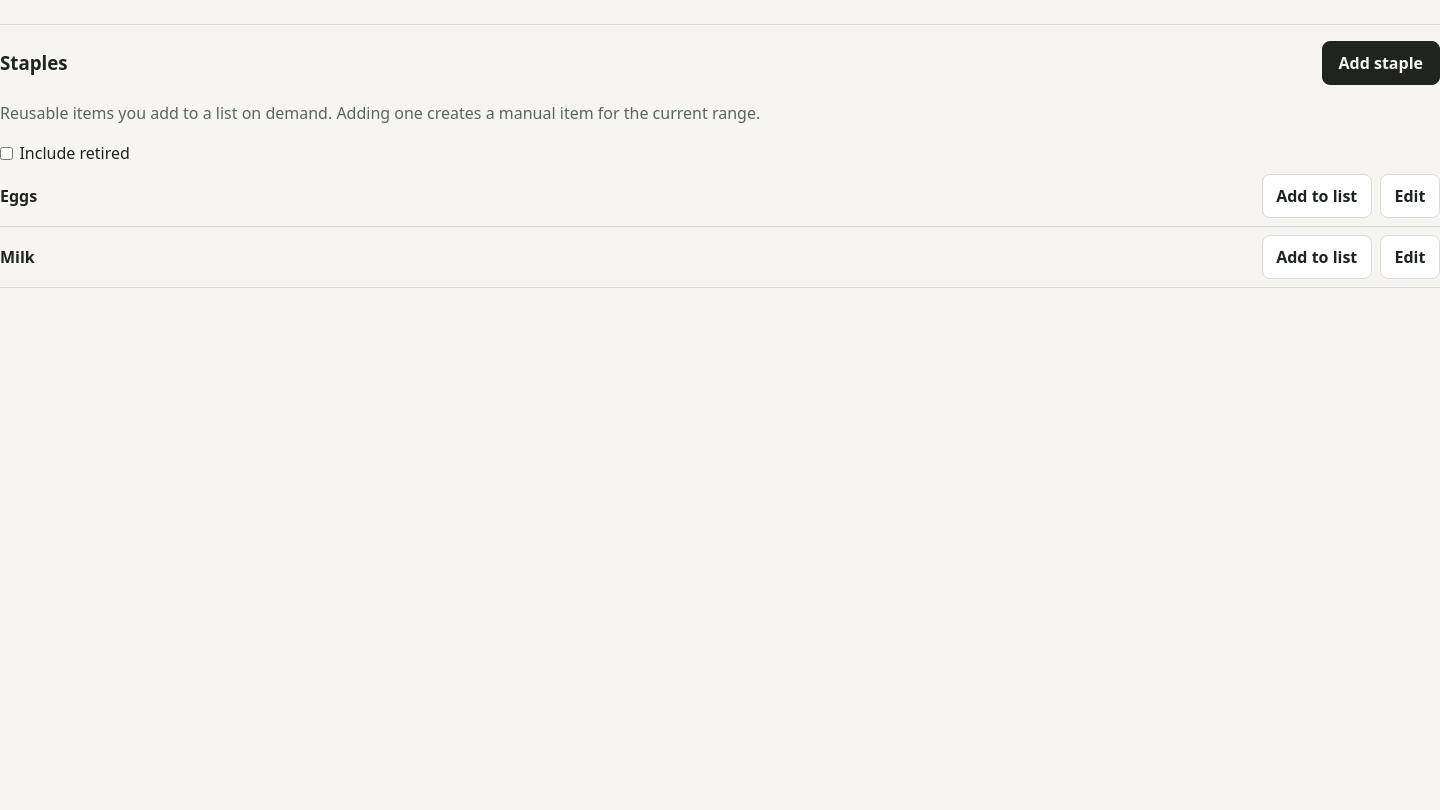
Test: staples panel › confirms before retiring a staple and announces it
The width and height of the screenshot is (1440, 810).
Click the button with aria-label "Edit Eggs" at {"x": 1410, "y": 196}, box [1380, 174, 1439, 218]
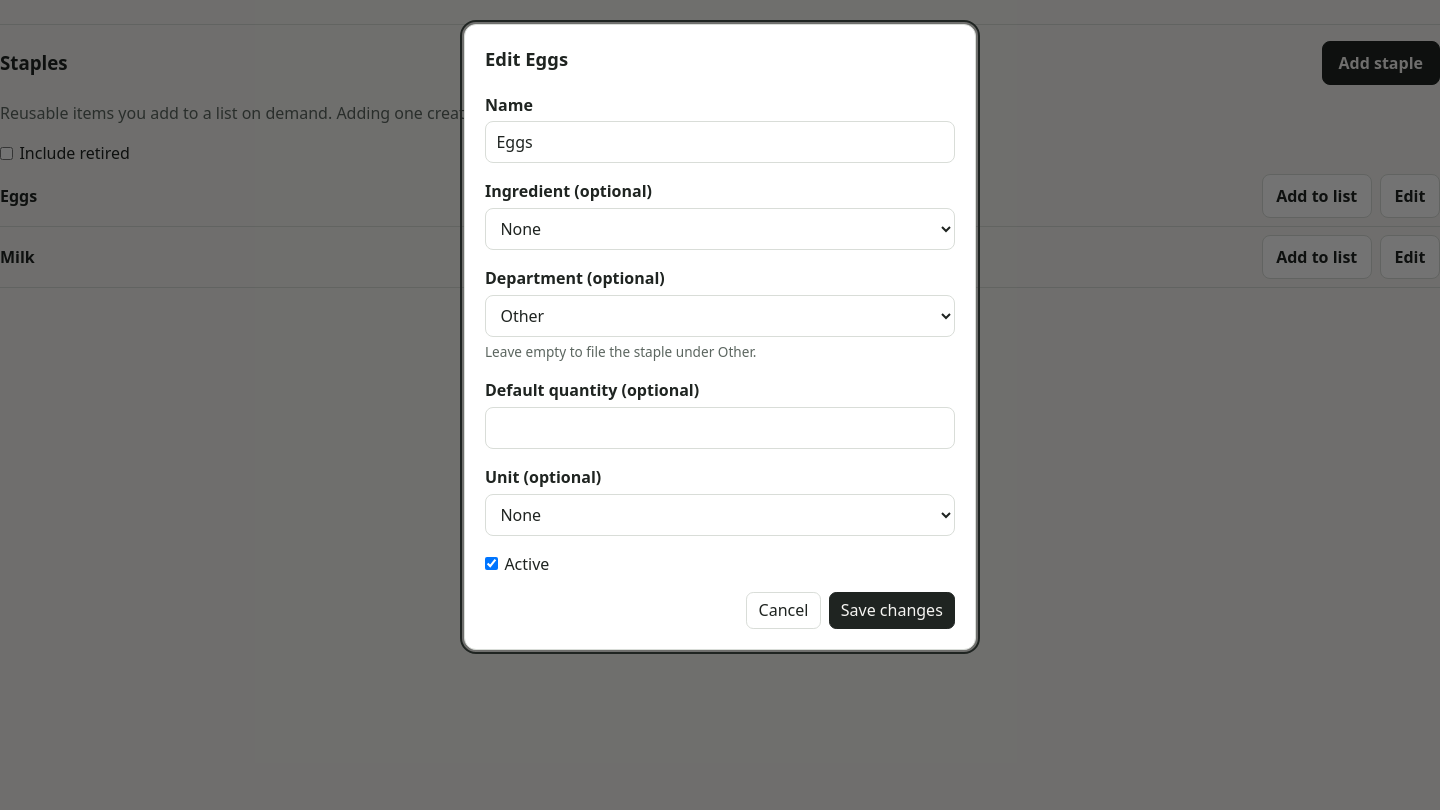
Click the checkbox labelled "Active" at {"x": 492, "y": 564}, box [485, 557, 498, 570]
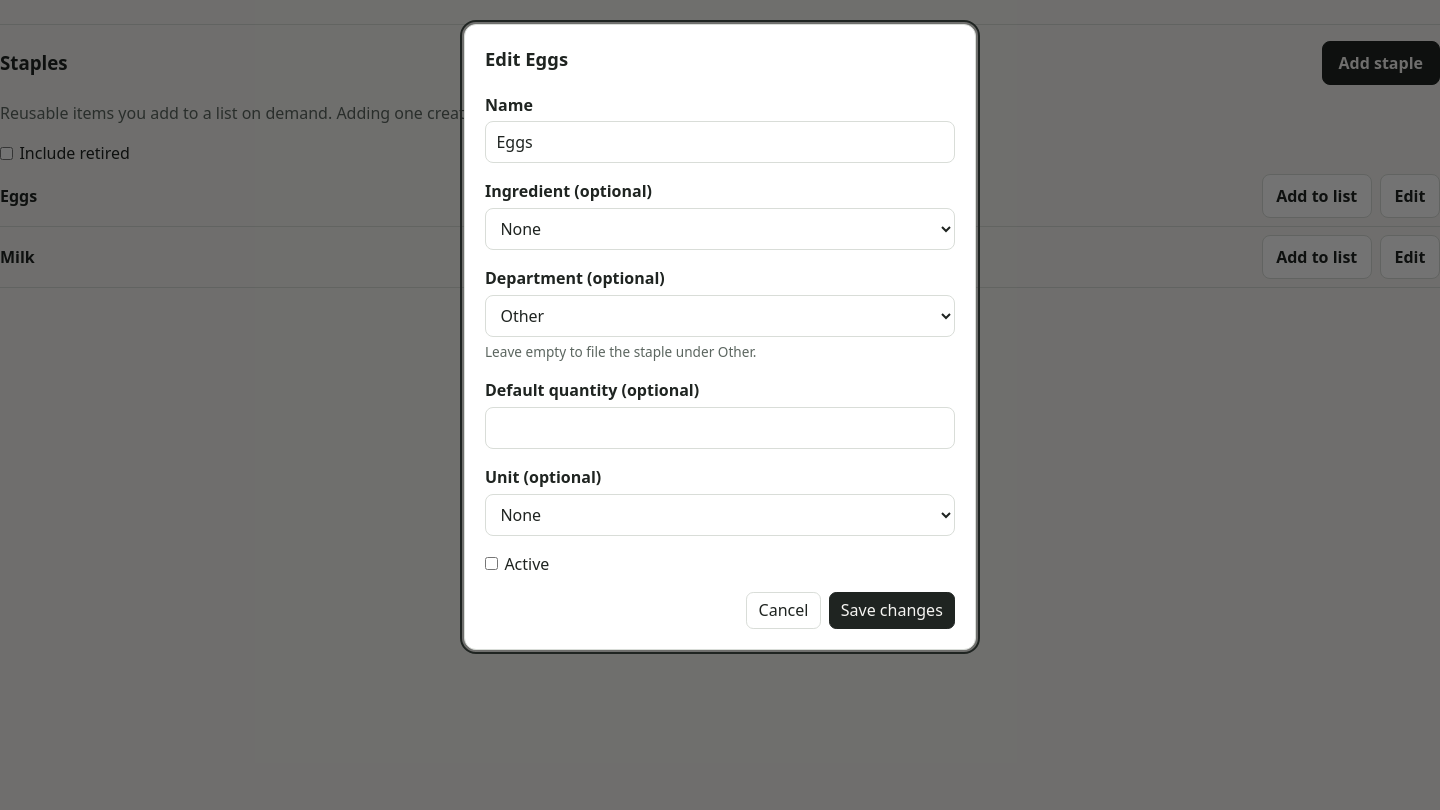
Click the button "Save changes" at {"x": 892, "y": 610}, box [829, 592, 955, 629]
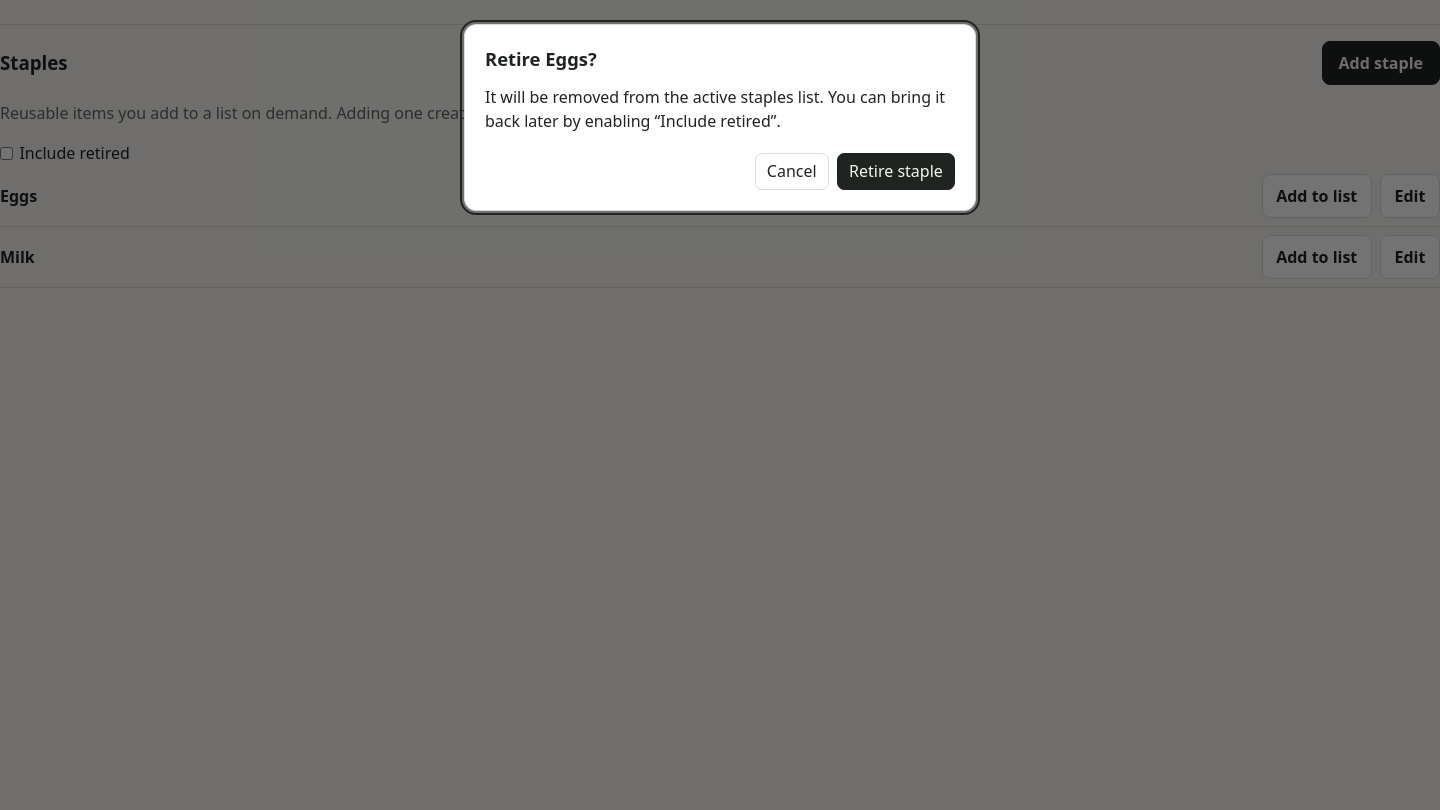
expect the heading "Edit Eggs" is gone: met
Click the button "Retire staple" at {"x": 896, "y": 171}, box [837, 153, 955, 190]
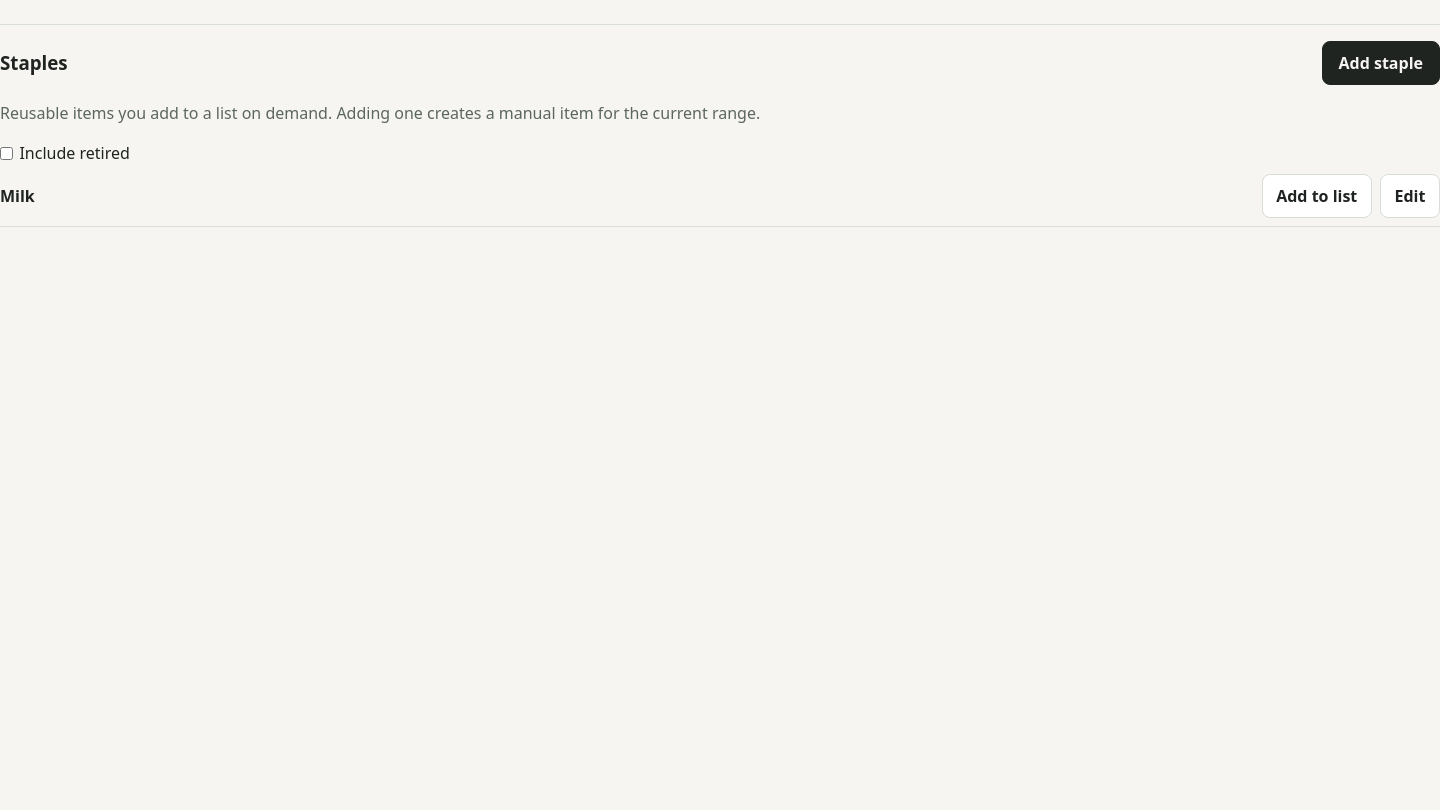
expect the text "Eggs" is gone: met
